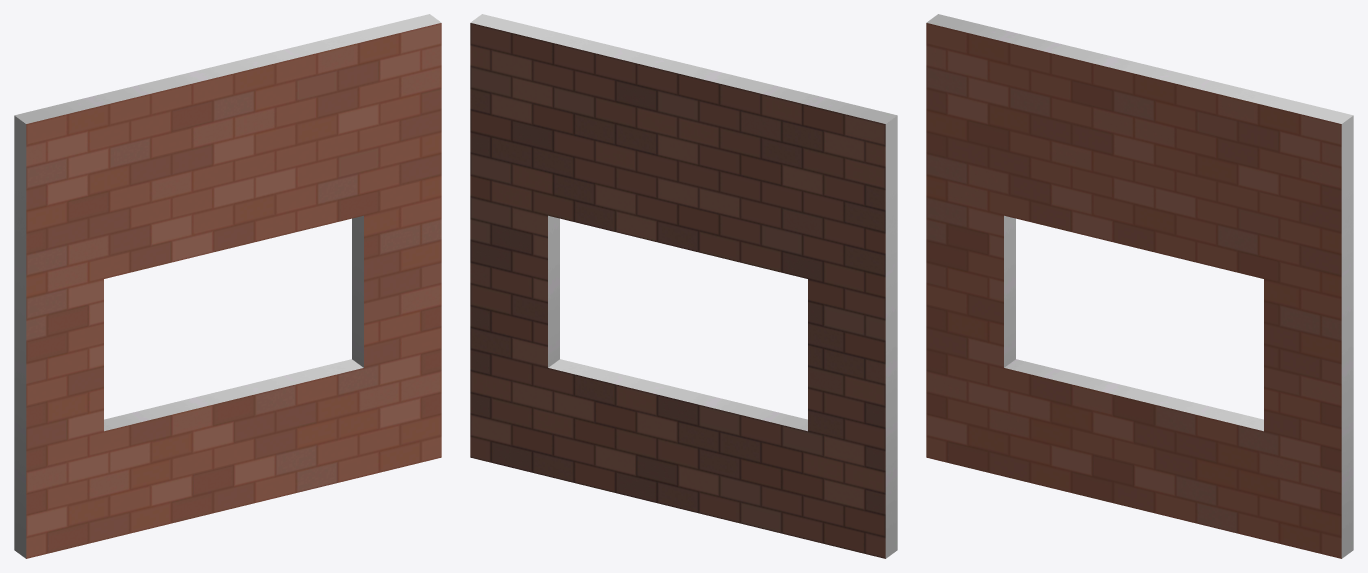
File: Wall_04.glb
3 views of the same model, side by side, from view 1: azimuth 30°, elevation 25°; view 2: azimuth 150°, elevation 25°; view 3: azimuth 330°, elevation 25° (orthographic).
Parts seen in each view (by area): view 1: Wall_04; view 2: Wall_04; view 3: Wall_04.
Part boxes in pixels (bbox=[...]): Wall_04: bbox=[14, 14, 441, 558]; Wall_04: bbox=[470, 14, 897, 558]; Wall_04: bbox=[926, 14, 1353, 558].
Bounding box in the file's own units: 4 × 4 × 0.2.
3 materials, 3 textured.
